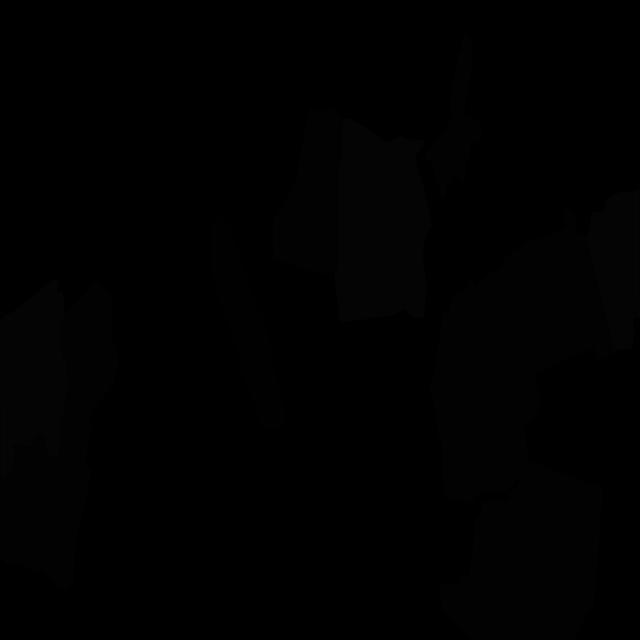cardboard: (0, 279, 119, 591), (438, 461, 603, 640), (449, 208, 615, 374), (428, 296, 541, 503), (272, 105, 343, 274), (424, 34, 482, 198)
rigid_plastic: (210, 213, 286, 430)
soft_plastic: (335, 118, 432, 322), (0, 278, 68, 481), (586, 188, 640, 351)
